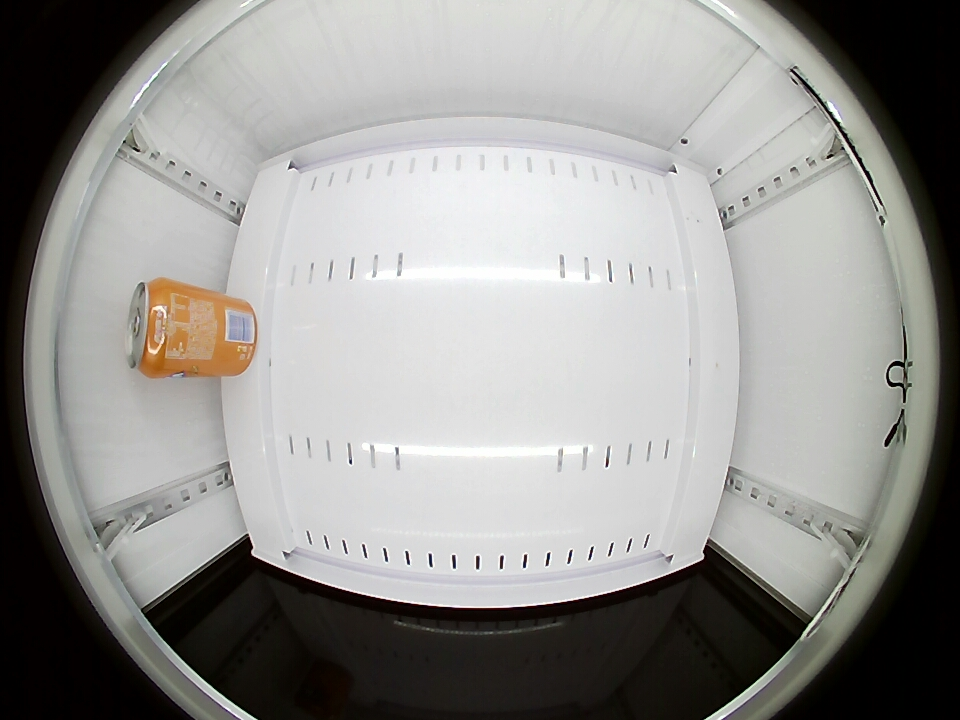fenda: (125, 278, 182, 378)
